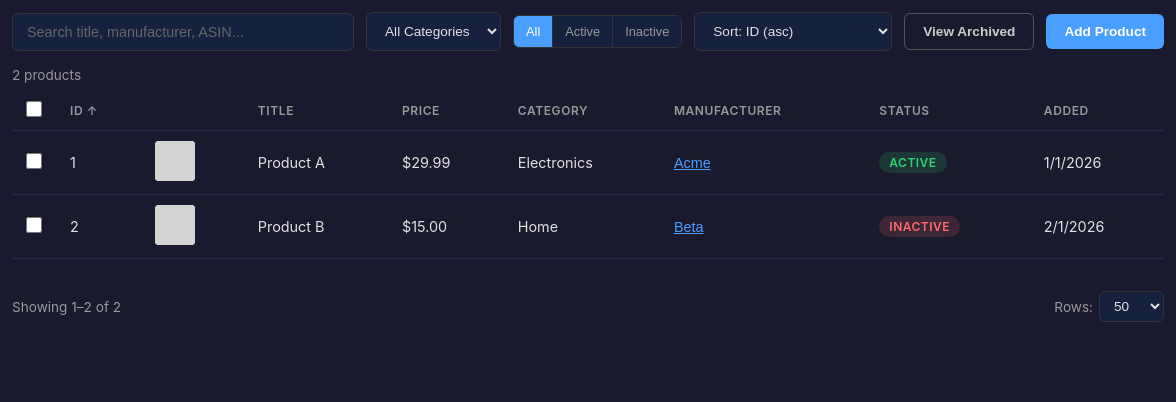
Test: AdminProductsPage › selecting individual product shows bulk action bar
Step 1. Click the checkbox with test id "select-1" → (34, 161), box x1=26 y1=153 x2=42 y2=169
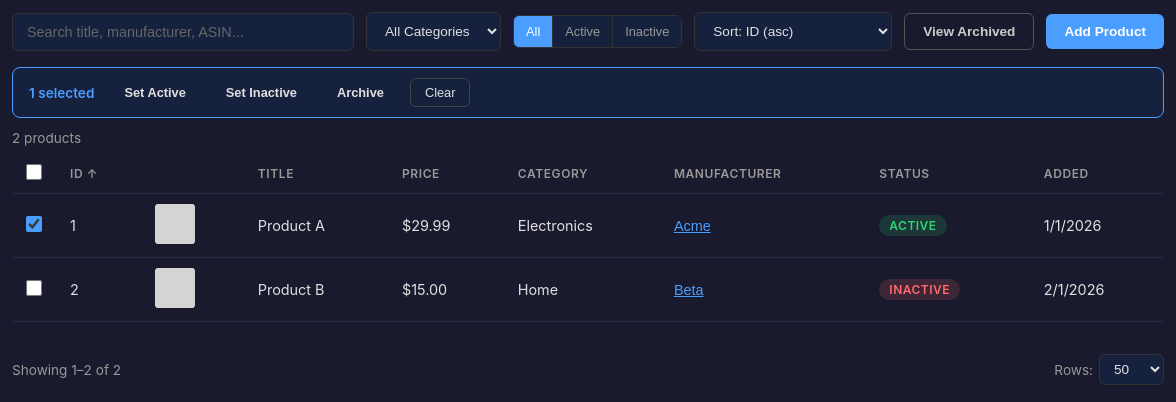
Expected: the element with test id "bulk-action-bar" is shown, x1=12 y1=67 x2=1164 y2=118
Expected: the text with test id "bulk-count" reads "1 selected", x1=29 y1=84 x2=94 y2=100
